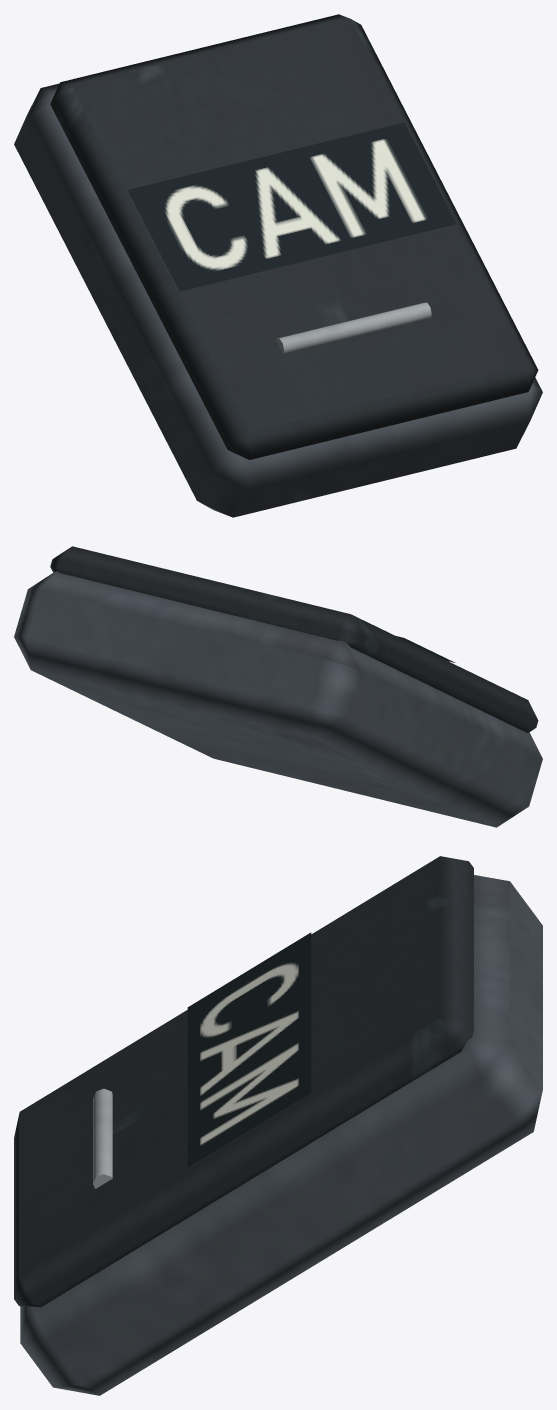
File: prop_key_optics.fbx
3 renders of one model, top to bottom at view 1: azimuth 30°, elevation 25°; view 2: azimuth 150°, elevation 25°; view 3: azimuth 270°, elevation 25°, orthographic. The views are drawn at different scales.
Parts seen in each view (by area): view 1: SM_prop_key_optics; view 2: SM_prop_key_optics; view 3: SM_prop_key_optics.
Boxes of the visible parts, <box> form: SM_prop_key_optics: <box>14,14,542,517</box>; SM_prop_key_optics: <box>14,546,542,827</box>; SM_prop_key_optics: <box>14,856,542,1395</box>.
Bounding box in the file's own units: 0.054 × 0.0494 × 0.0628.
4 materials, 4 textured.
